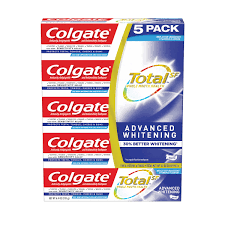colgate-family: (40, 18, 183, 166)
gooday-medium: (42, 167, 185, 200)
